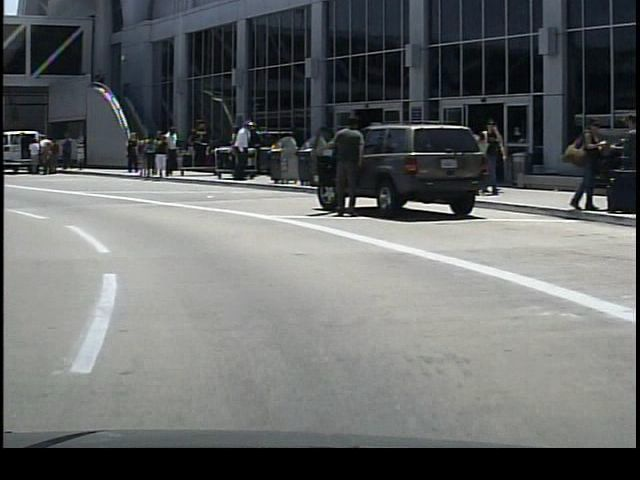person: (319, 111, 365, 219), (559, 114, 600, 214), (603, 111, 636, 208), (474, 112, 509, 203), (228, 118, 255, 183), (148, 130, 169, 180), (161, 124, 179, 179), (57, 129, 78, 176), (119, 129, 139, 174), (36, 132, 55, 177), (25, 137, 43, 177)
